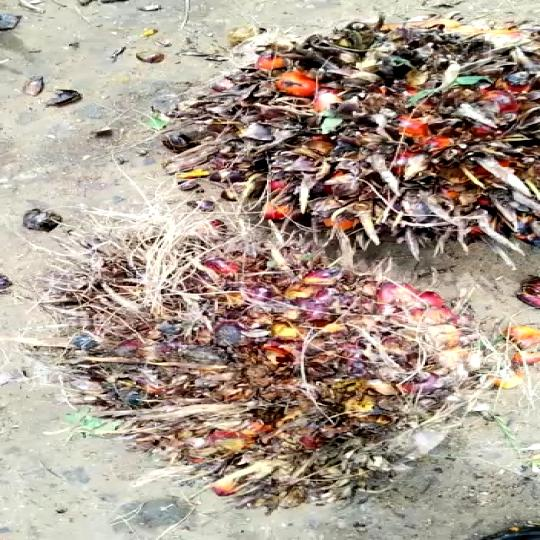terlalu masak: (19, 244, 540, 506), (151, 17, 540, 244)
